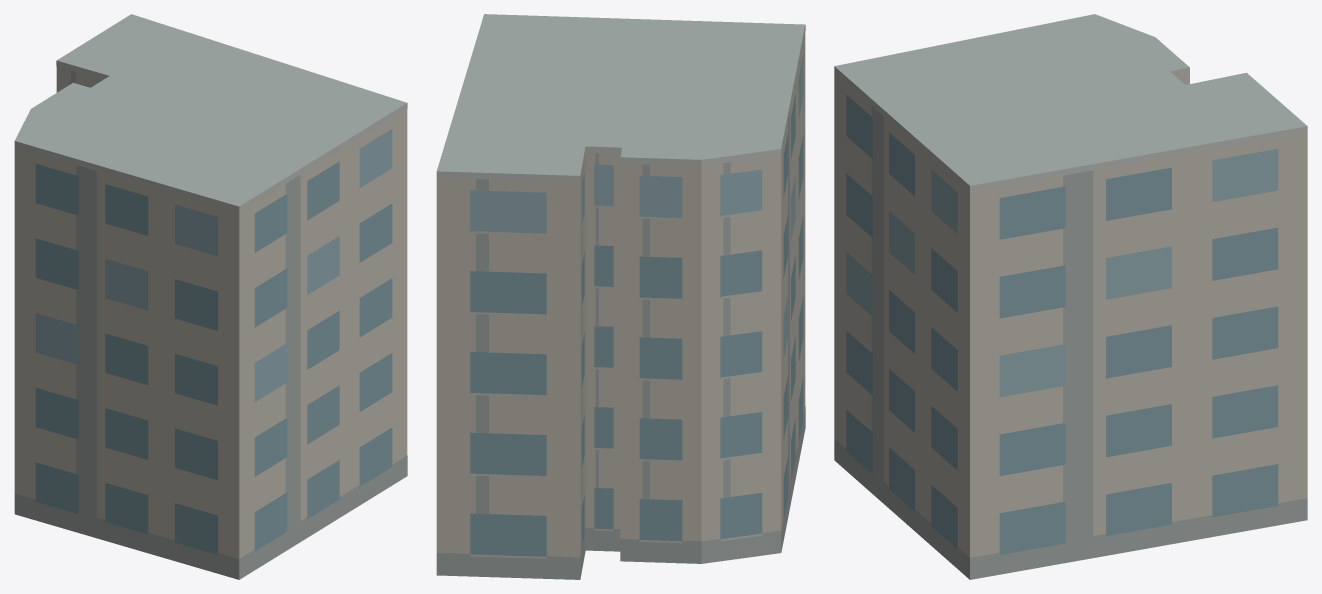
File: survey-upis-32629640.glb
3 renders of one model, left to right at view 1: azimuth 30°, elevation 25°; view 2: azimuth 150°, elevation 25°; view 3: azimuth 270°, elevation 25°, orthographic. The views are drawn at different scales.
Parts seen in each view (by area): view 1: survey-upis-32629640.tmp; view 2: survey-upis-32629640.tmp; view 3: survey-upis-32629640.tmp.
Boxes of the visible parts, bbox=[...] form: survey-upis-32629640.tmp: bbox=[14, 14, 407, 579]; survey-upis-32629640.tmp: bbox=[436, 14, 805, 579]; survey-upis-32629640.tmp: bbox=[834, 14, 1307, 579].
Bounding box in the file's own units: 14.27 × 15.25 × 16.61.
